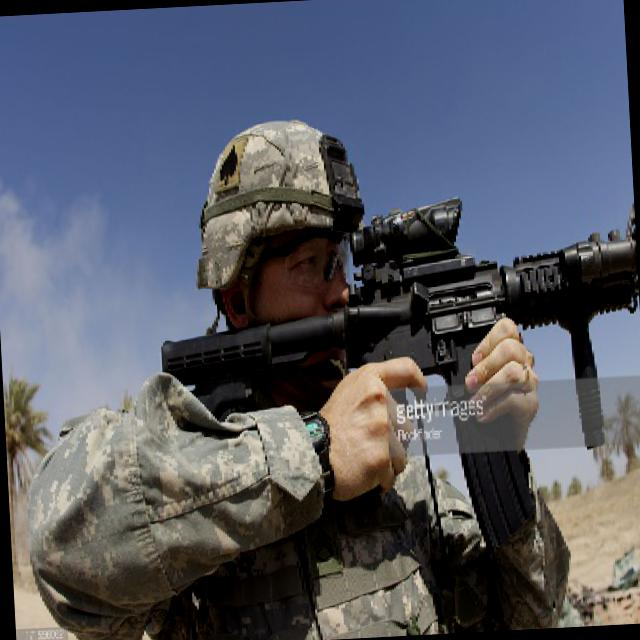long weapon: (141, 177, 639, 501)
